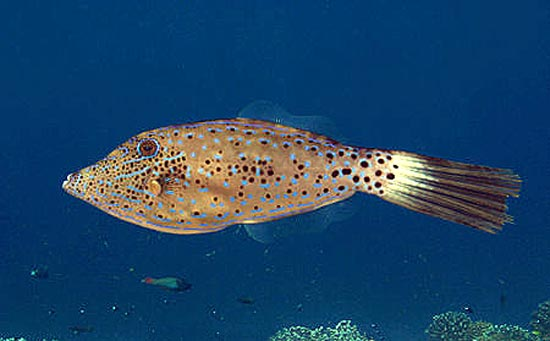Aluterus_scriptus: (60, 102, 524, 256)
